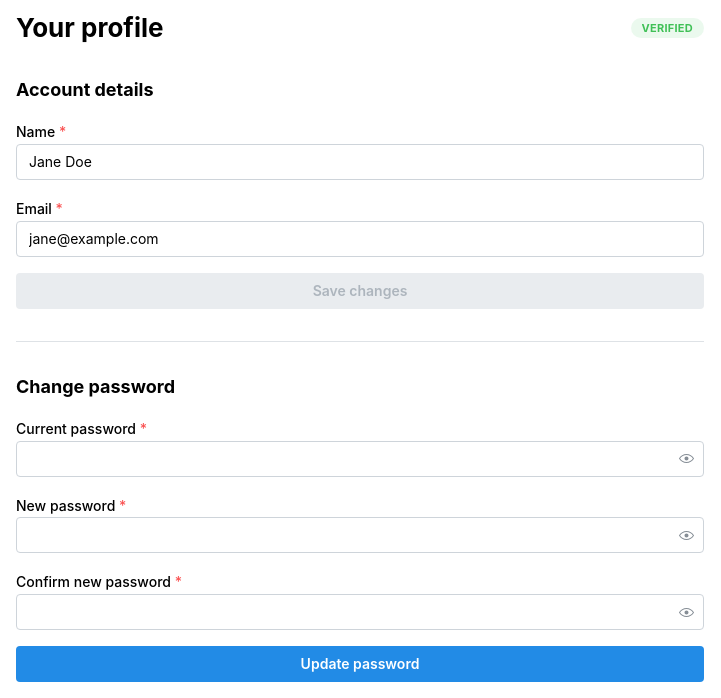
Test case: ProfilePage › disables the save button until the form is dirty
This screenshot has width=721, height=698.
Check: the button "Save changes" is disabled, box [16, 273, 704, 309]
Replace the text in the field labelled "Name *" with "Jane Q. Doe": (360, 162) [16, 144, 704, 180]
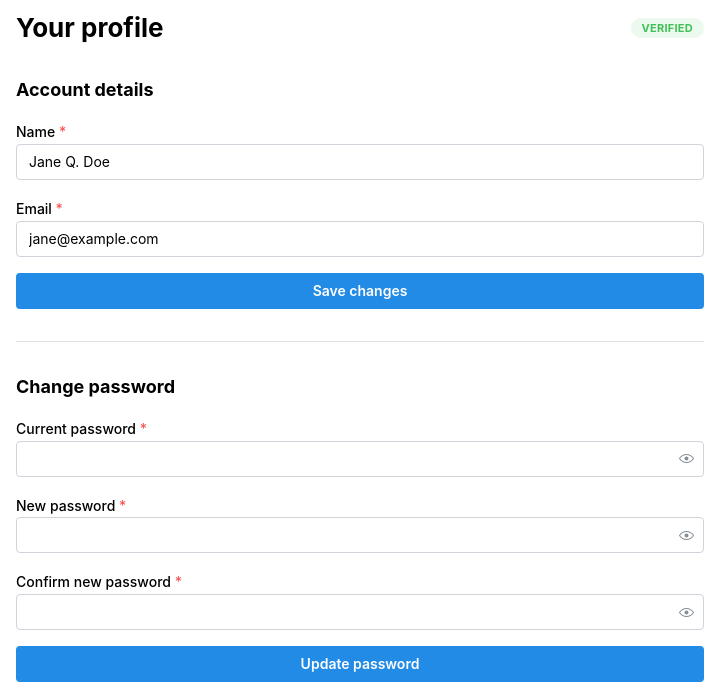
Check: the button "Save changes" is enabled, box [16, 273, 704, 309]
